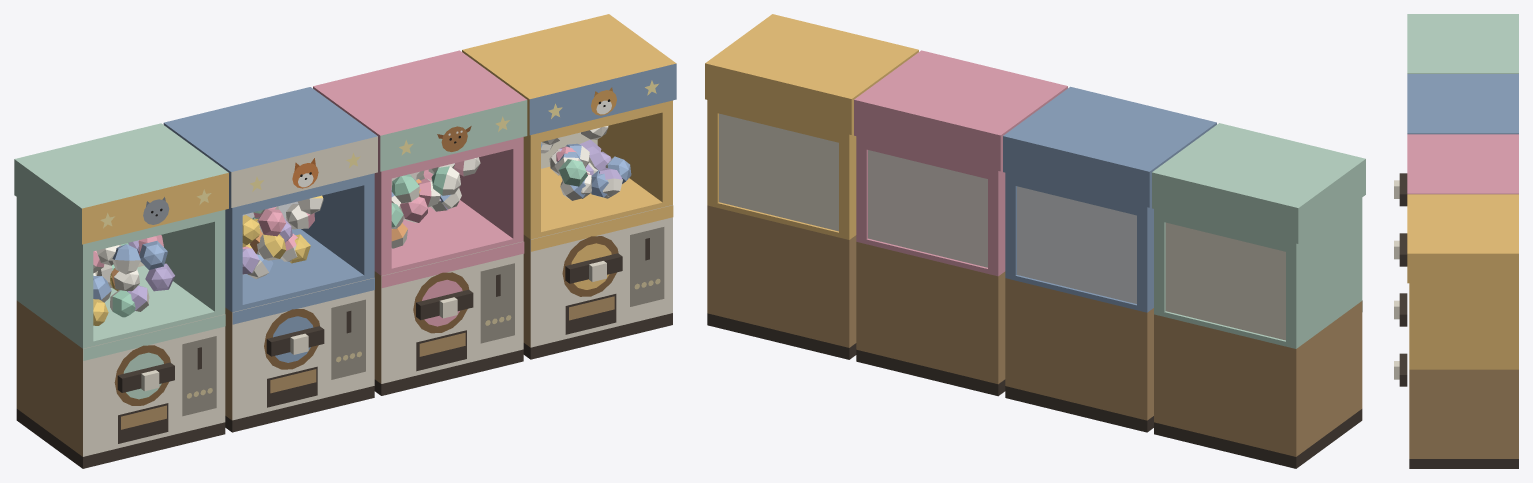
The model's file is gachapon.glb.
The picture shows the model from 3 angles, left to right: view 1: azimuth 30°, elevation 25°; view 2: azimuth 150°, elevation 25°; view 3: azimuth 270°, elevation 25°; orthographic projection. The views are drawn at different scales.
Visible parts, largest first — view 1: gacha_a, gacha_d, gacha_c, gacha_b, crank_c, crank_d, crank_b, crank_a; view 2: gacha_a, gacha_d, gacha_c, gacha_b; view 3: gacha_d, gacha_b, gacha_c, gacha_a, crank_b, crank_c, crank_a, crank_d.
Part boxes in pixels (<box>): gacha_a: <box>14,123,228,468</box>; gacha_d: <box>462,14,676,359</box>; gacha_c: <box>313,50,527,395</box>; gacha_b: <box>163,87,377,432</box>; crank_c: <box>413,272,473,333</box>; crank_d: <box>562,236,622,296</box>; crank_b: <box>264,309,324,369</box>; crank_a: <box>114,345,174,405</box>; gacha_a: <box>1152,123,1365,468</box>; gacha_d: <box>705,14,918,359</box>; gacha_c: <box>854,50,1067,396</box>; gacha_b: <box>1003,86,1216,432</box>; gacha_d: <box>1407,194,1518,468</box>; gacha_b: <box>1407,74,1518,134</box>; gacha_c: <box>1407,134,1518,194</box>; gacha_a: <box>1407,14,1518,73</box>; crank_b: <box>1394,233,1407,266</box>; crank_c: <box>1394,293,1407,326</box>; crank_a: <box>1394,173,1407,206</box>; crank_d: <box>1394,353,1407,386</box>.
Size of the model in its own units: 0.259 by 0.109 by 0.057.
